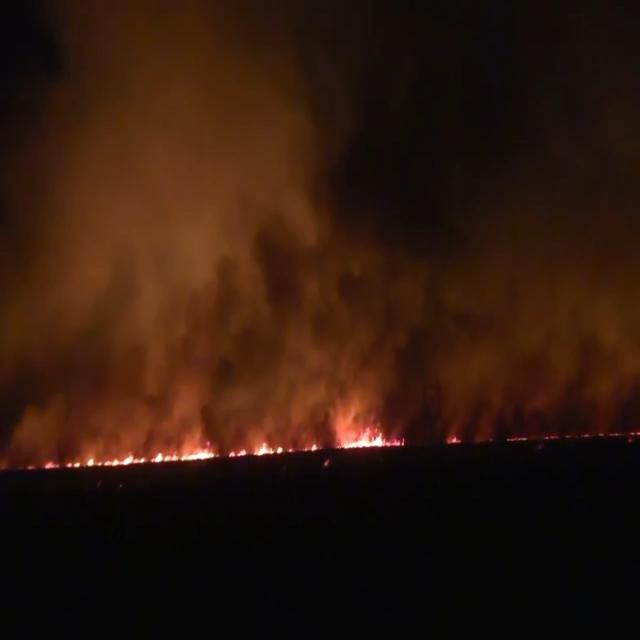Fire: (24, 419, 410, 477)
